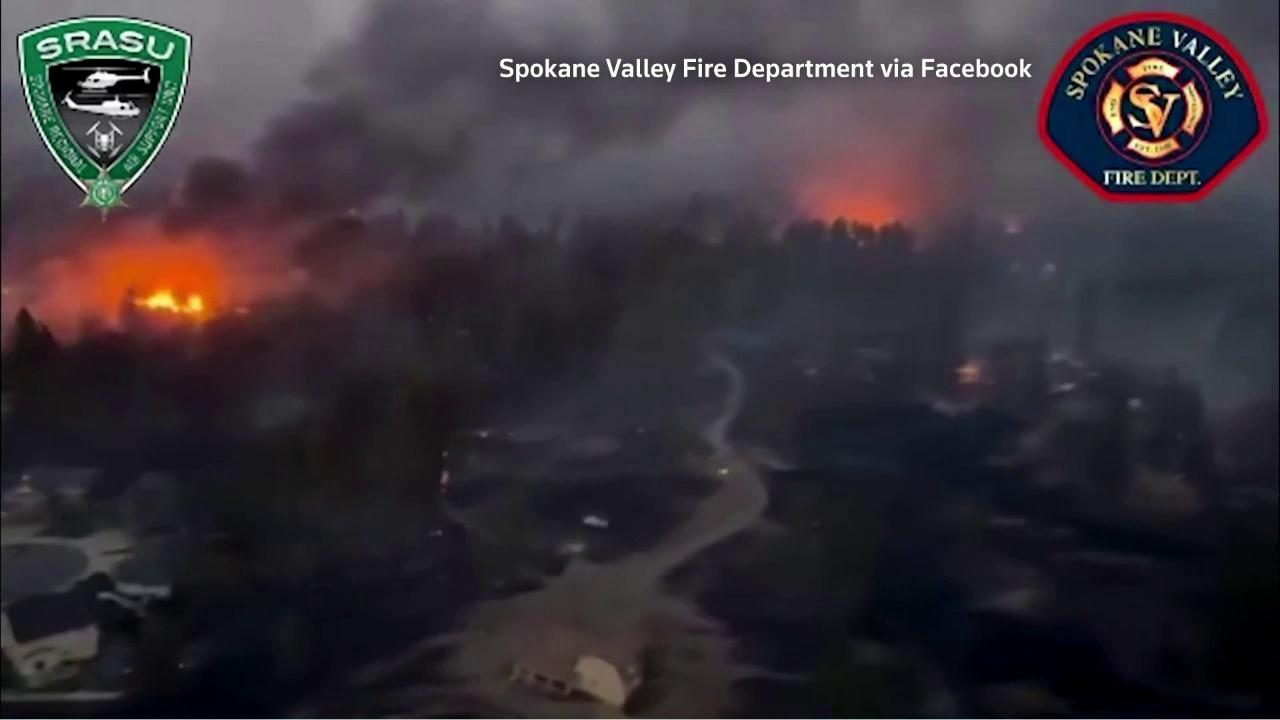fire: (121, 284, 213, 323), (947, 356, 990, 387)
smoke: (2, 0, 1280, 446)
